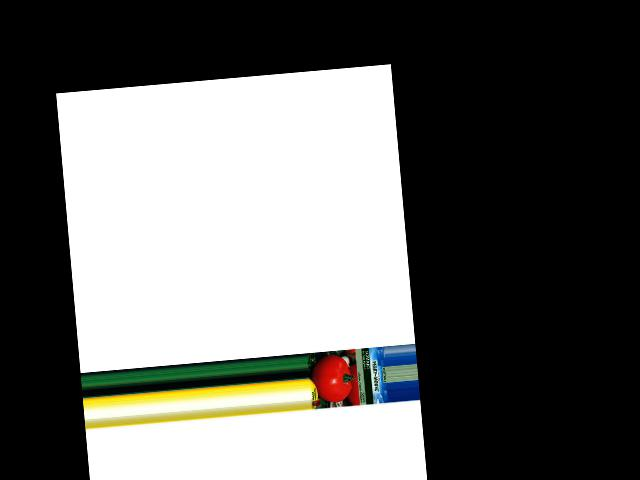tomato: (309, 353, 352, 403)
